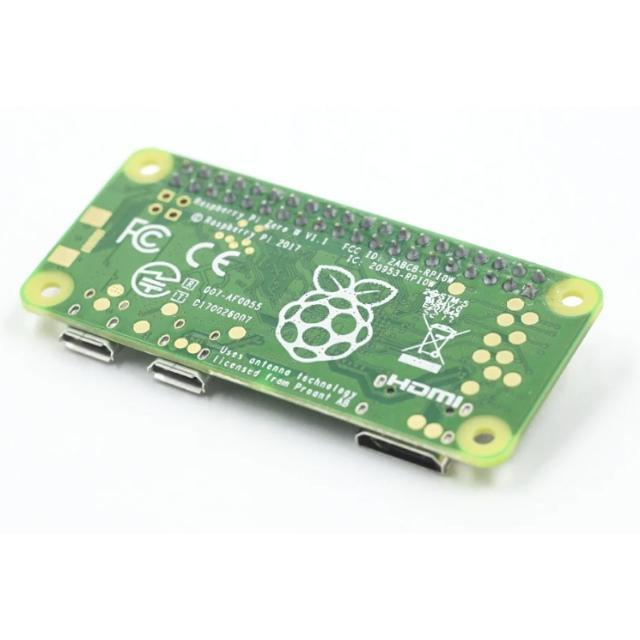Raspberry-Pi-Zero-WH: (21, 149, 603, 471)
